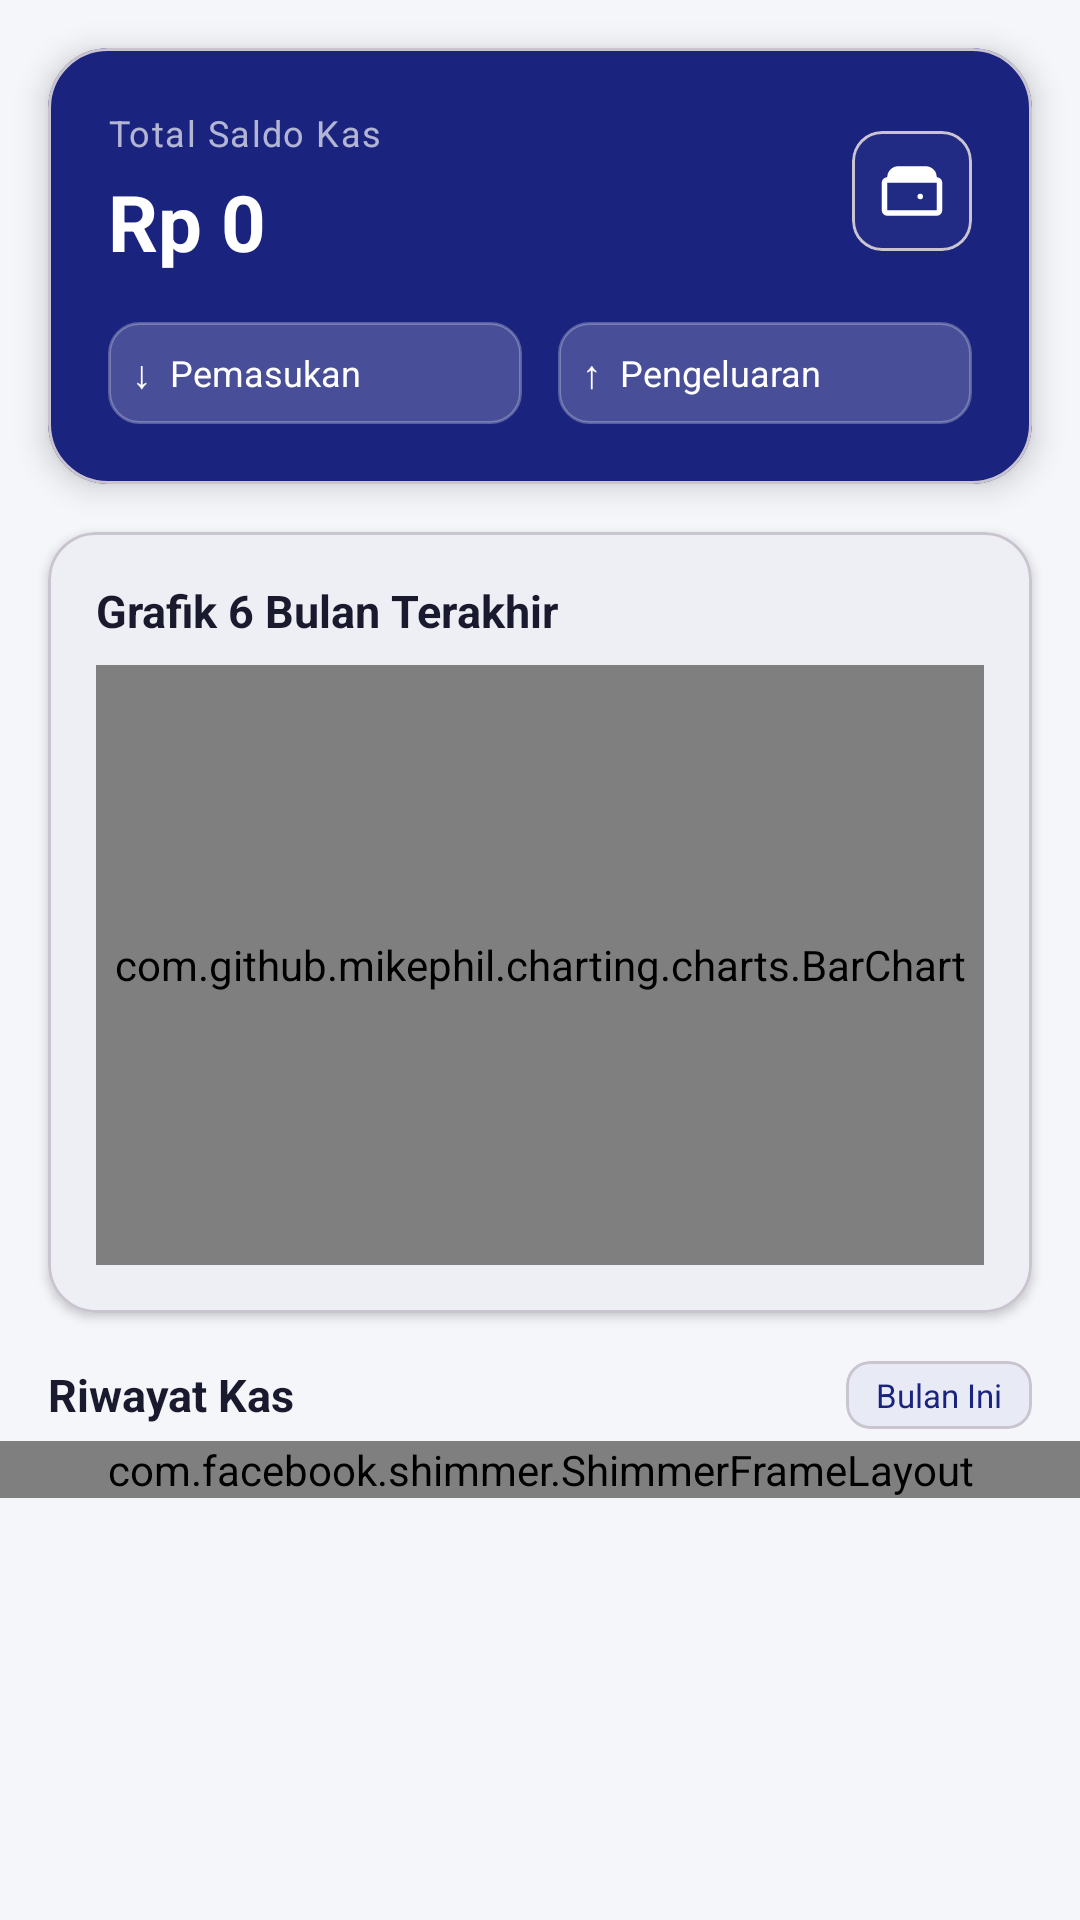

Named icons in this screenshot (1080*1920) and their bounding boxes, (x1, y1, x2, y2):
wallet: (881, 166, 943, 216)
